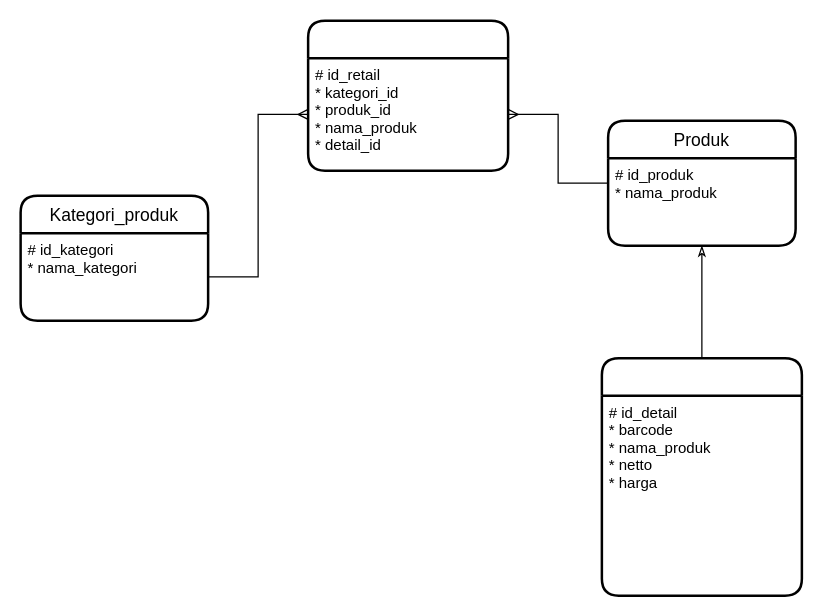
This 823x616 diagram has some shape labels left out. Each missing label, with the box of its shape:
Detail_produk: (600, 356, 802, 596)
Toko_retail: (306, 19, 509, 171)
